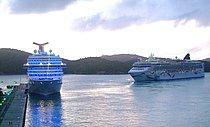Ship: (126, 52, 208, 84), (22, 41, 67, 97)
